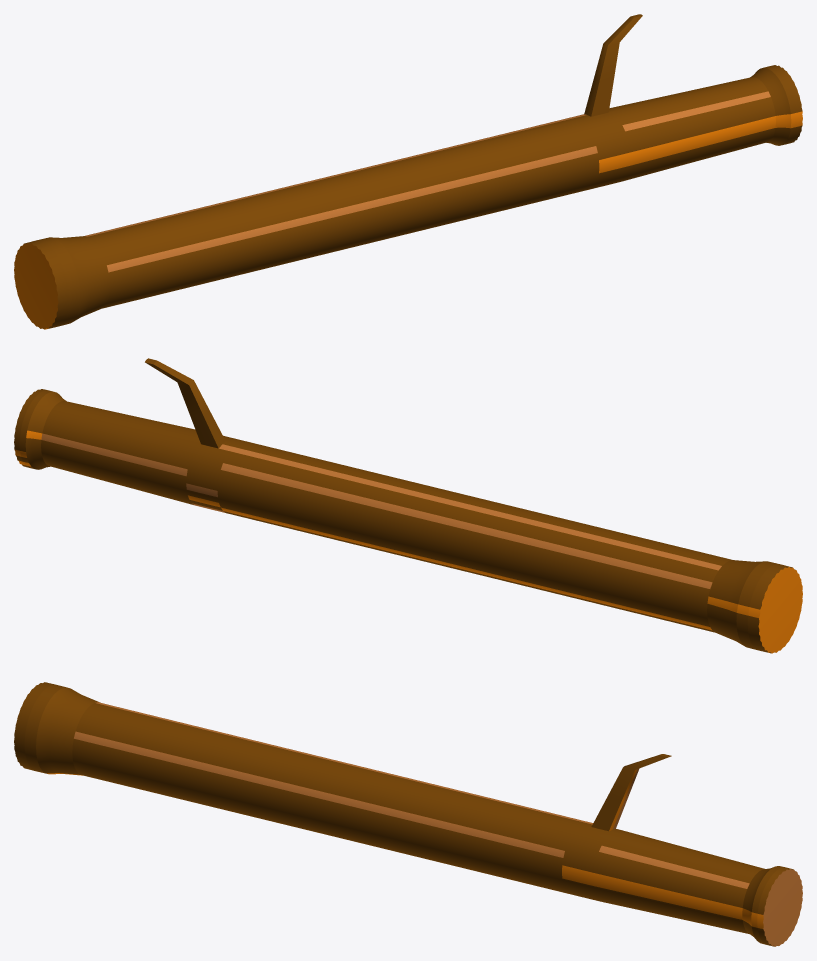
Rendered from log.fbx.
3 renders of one model, top to bottom at view 1: azimuth 30°, elevation 25°; view 2: azimuth 150°, elevation 25°; view 3: azimuth 330°, elevation 25°, orthographic.
Parts seen in each view (by area): view 1: Cylinder; view 2: Cylinder; view 3: Cylinder.
Part boxes in pixels (x1,y1,x2,y2): Cylinder: (14, 14, 802, 329); Cylinder: (14, 358, 802, 653); Cylinder: (14, 682, 802, 946).
Bounding box in the file's own units: 1348 × 259 × 139.
